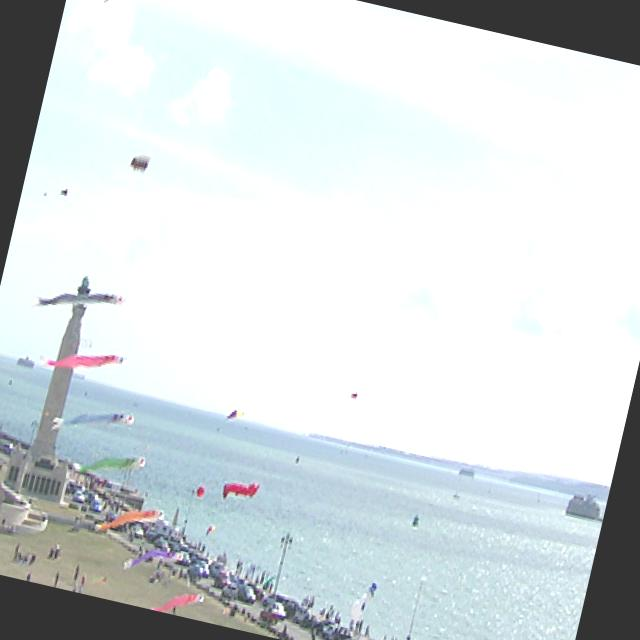Vehicle: (88, 497, 506, 640), (236, 582, 258, 606), (212, 568, 234, 590), (256, 604, 280, 624), (184, 560, 205, 580), (220, 581, 240, 602), (292, 606, 312, 627), (270, 600, 288, 618), (152, 538, 171, 554), (128, 521, 145, 538), (70, 488, 86, 504), (197, 560, 211, 578), (89, 497, 103, 512)
